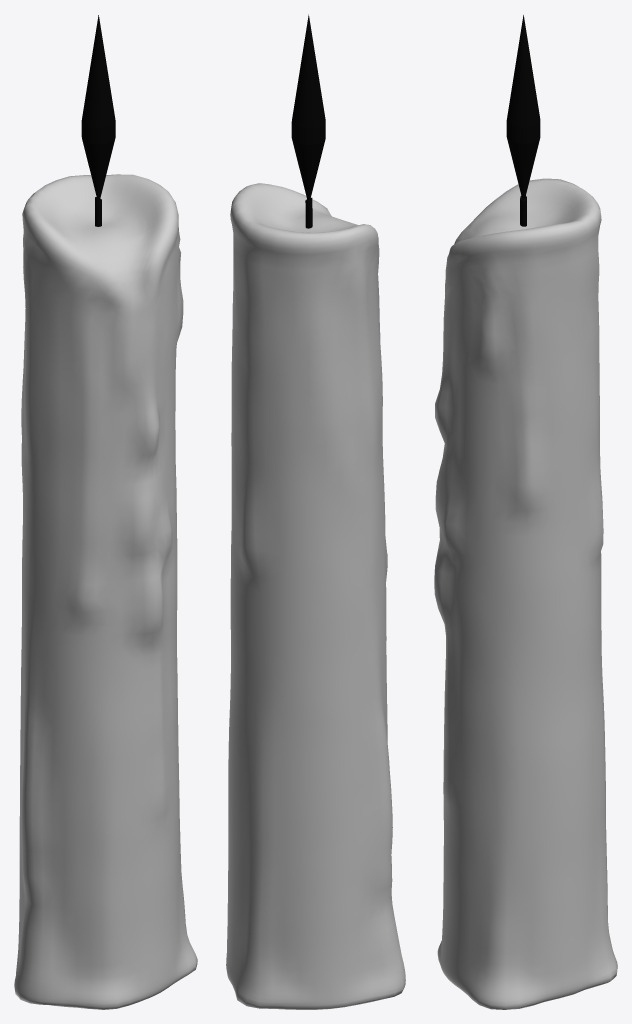
The model's file is CandleLightv2.fbx.
3 renders of one model, left to right at view 1: azimuth 30°, elevation 25°; view 2: azimuth 150°, elevation 25°; view 3: azimuth 270°, elevation 25°, orthographic.
Parts seen in each view (by area): view 1: CandleSet01_Stick02_geo_Candles_MAT_0, Flame; view 2: CandleSet01_Stick02_geo_Candles_MAT_0, Flame; view 3: CandleSet01_Stick02_geo_Candles_MAT_0, Flame.
Part boxes in pixels (left/top/right/bottom): CandleSet01_Stick02_geo_Candles_MAT_0: left=14, top=174, right=197, bottom=1009; Flame: left=81, top=15, right=115, bottom=199; CandleSet01_Stick02_geo_Candles_MAT_0: left=226, top=183, right=405, bottom=1009; Flame: left=291, top=14, right=325, bottom=199; CandleSet01_Stick02_geo_Candles_MAT_0: left=434, top=178, right=617, bottom=1009; Flame: left=506, top=15, right=540, bottom=199.
Bounding box in the file's own units: 6.09 × 32.6 × 5.66.
